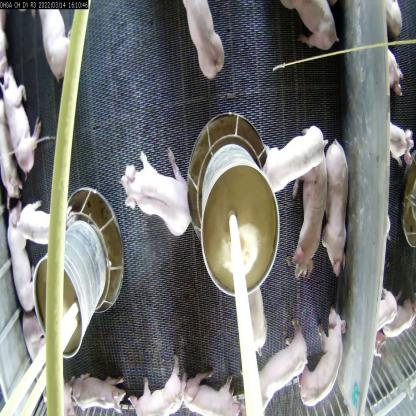Pig: (261, 109, 329, 218), (118, 150, 194, 242), (243, 330, 310, 416), (300, 302, 346, 414), (49, 356, 130, 416), (7, 61, 44, 189), (123, 356, 201, 416), (290, 151, 326, 277), (180, 0, 233, 84), (2, 213, 38, 330), (326, 146, 356, 280), (17, 184, 68, 260), (233, 288, 274, 366), (179, 365, 236, 416)
